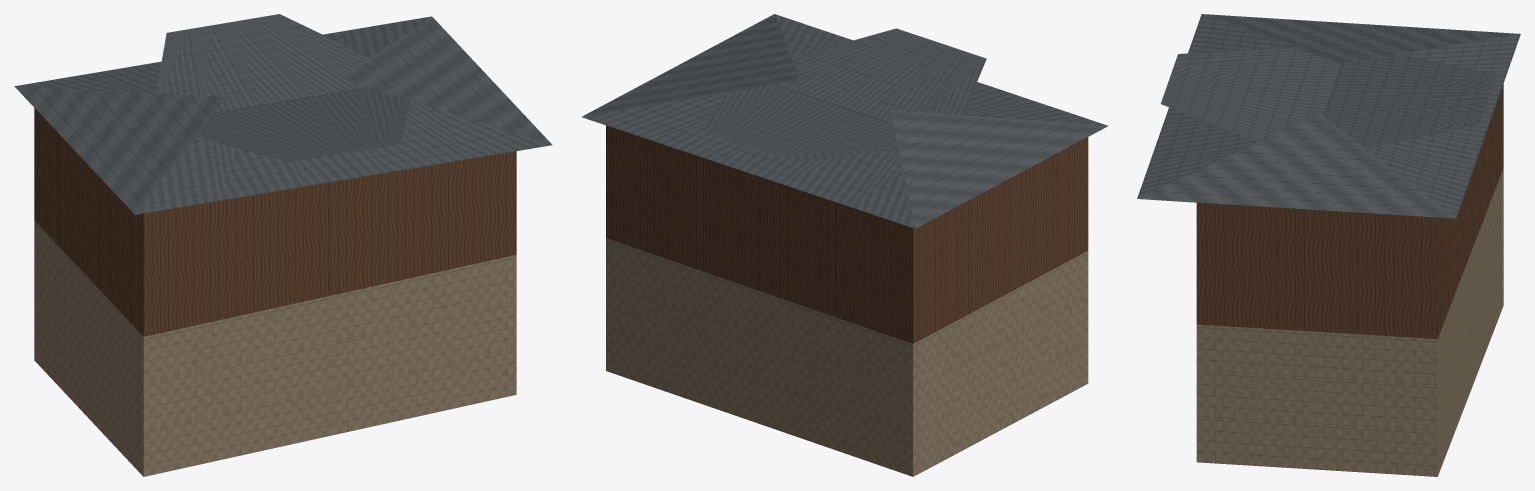
Rendered from bld_c-37_-14_655.gltf.
The picture shows the model from 3 angles, left to right: view 1: azimuth 30°, elevation 25°; view 2: azimuth 150°, elevation 25°; view 3: azimuth 270°, elevation 25°; orthographic projection. The views are drawn at different scales.
Parts seen in each view (by area): view 1: bld_c-37_-14_655; view 2: bld_c-37_-14_655; view 3: bld_c-37_-14_655.
Part boxes in pixels (box(x1,y1,x2,y2)): bld_c-37_-14_655: box(14, 14, 552, 476); bld_c-37_-14_655: box(582, 14, 1107, 476); bld_c-37_-14_655: box(1137, 14, 1520, 476).
Size of the model in its own units: 16.01 by 10.7 by 12.68.
Materials: 3 (3 with a texture image).
